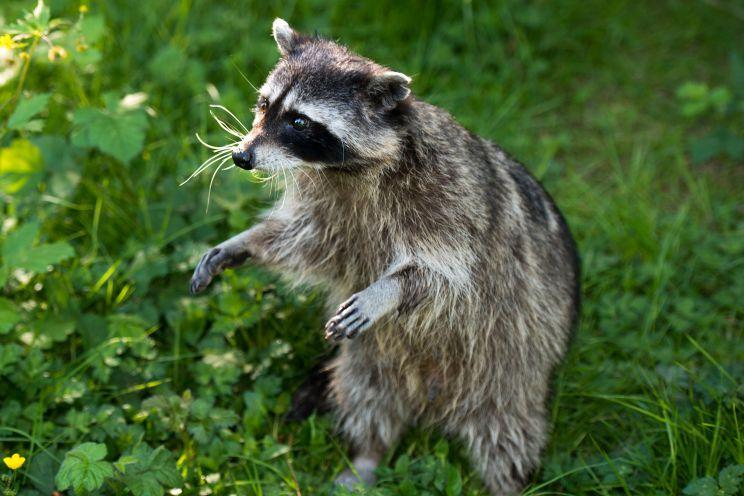raccoon: (191, 18, 582, 496)
